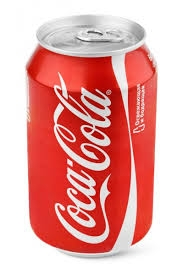can: (24, 15, 158, 257)
